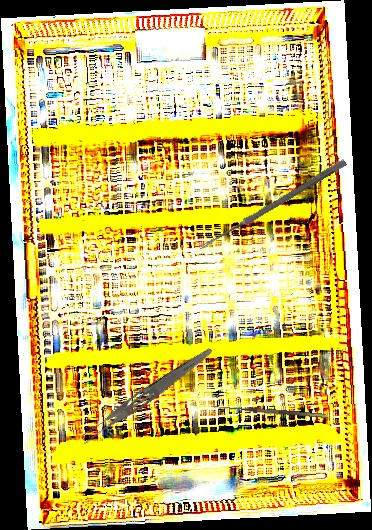Dressing Forceps: (77, 341, 215, 448)
Hook Surgical: (213, 404, 327, 424)
Surgical Spoon: (198, 158, 347, 252)
